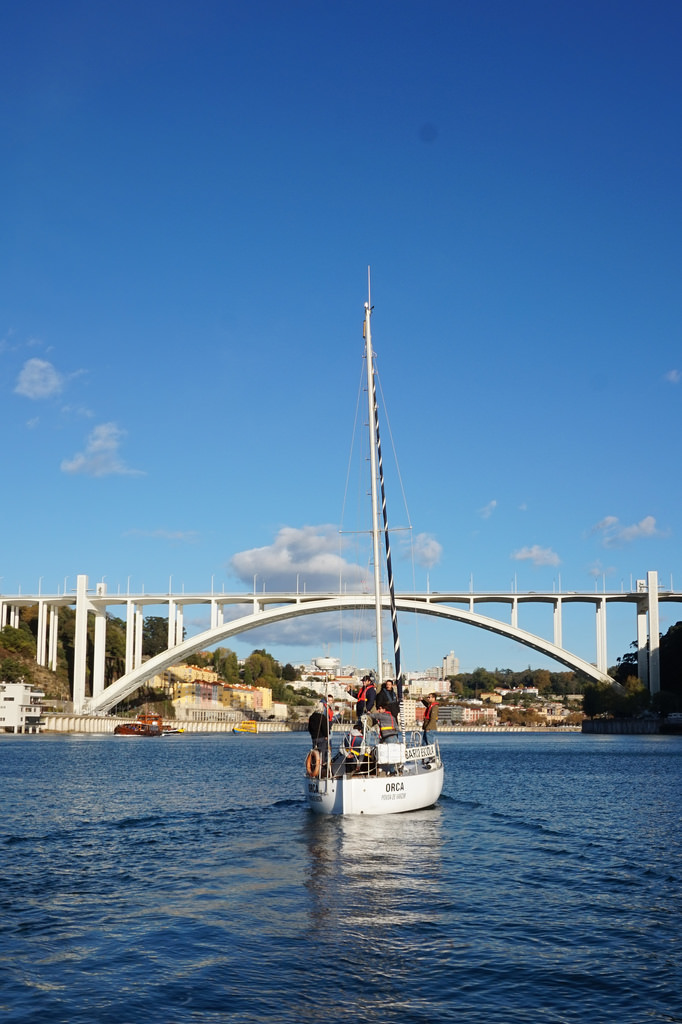arrabida: (0, 571, 681, 721)
